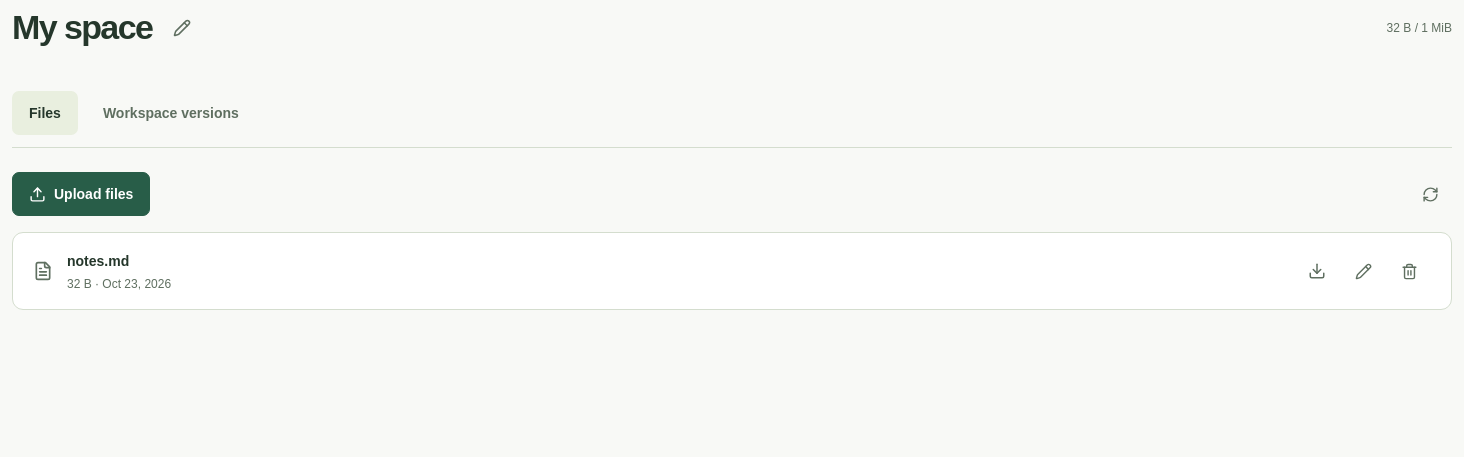
space user journeys › requires confirmation for file deletion and refreshes usage
Click the button named "Delete notes.md" at (1409, 271), box [1387,249,1431,293]
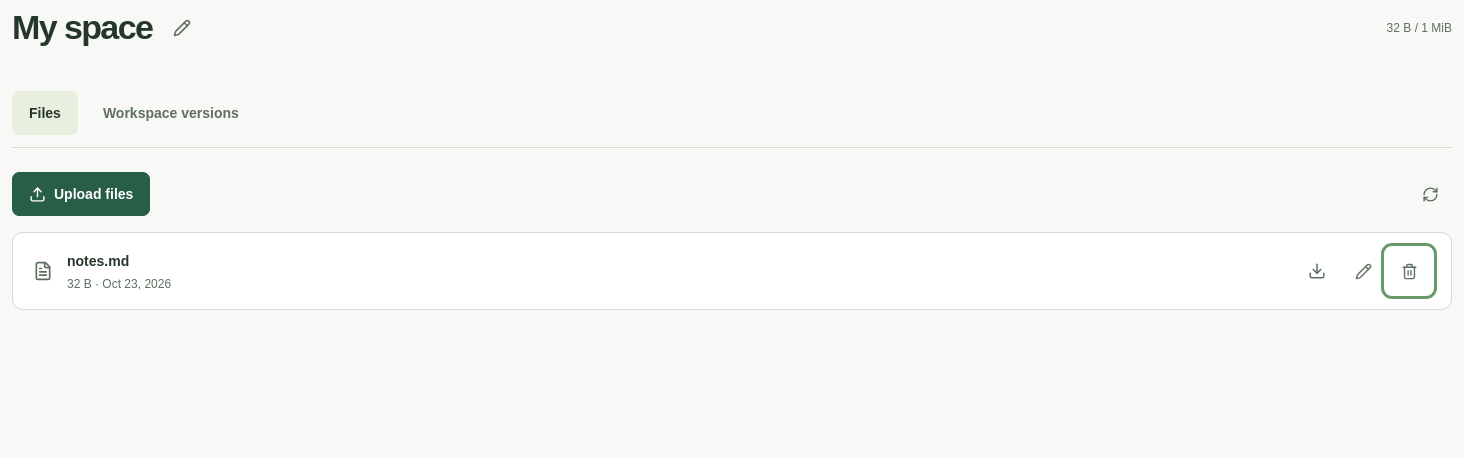
Click the button named "Delete notes.md" at (1409, 271), box [1387,249,1431,293]
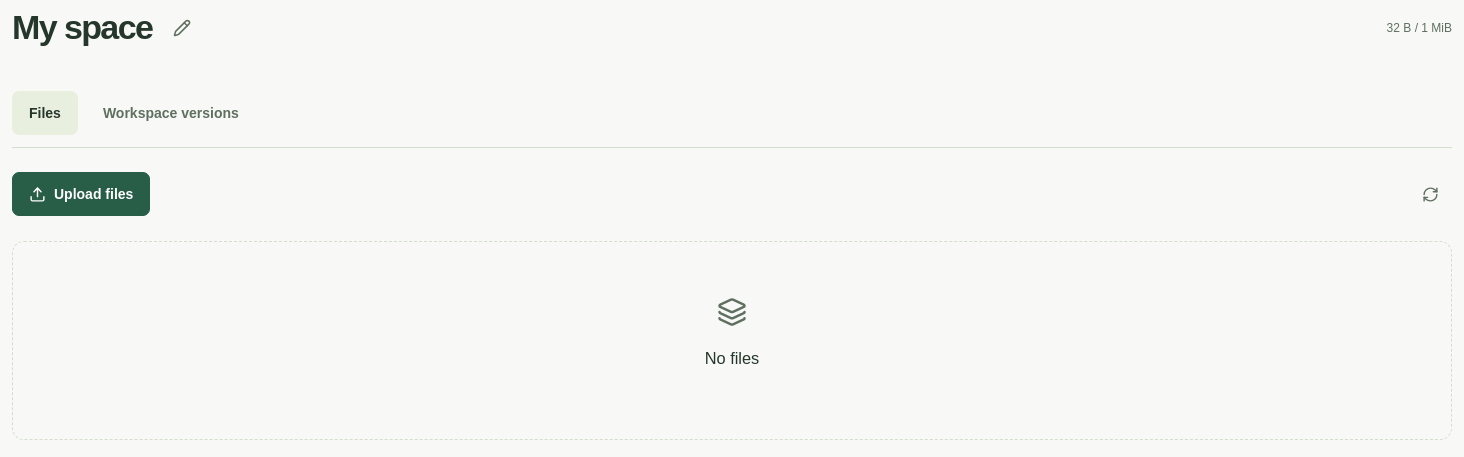
Now the heading "No files" is shown, box [705,349,759,367]
